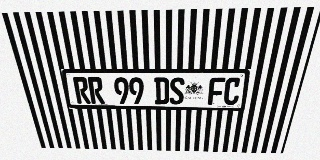9: (113, 77, 130, 104), (129, 77, 144, 104)
C: (223, 77, 242, 105)
D: (154, 77, 169, 104)
F: (208, 77, 226, 105)
R: (72, 77, 91, 104), (87, 77, 105, 104)
S: (169, 77, 185, 105)
